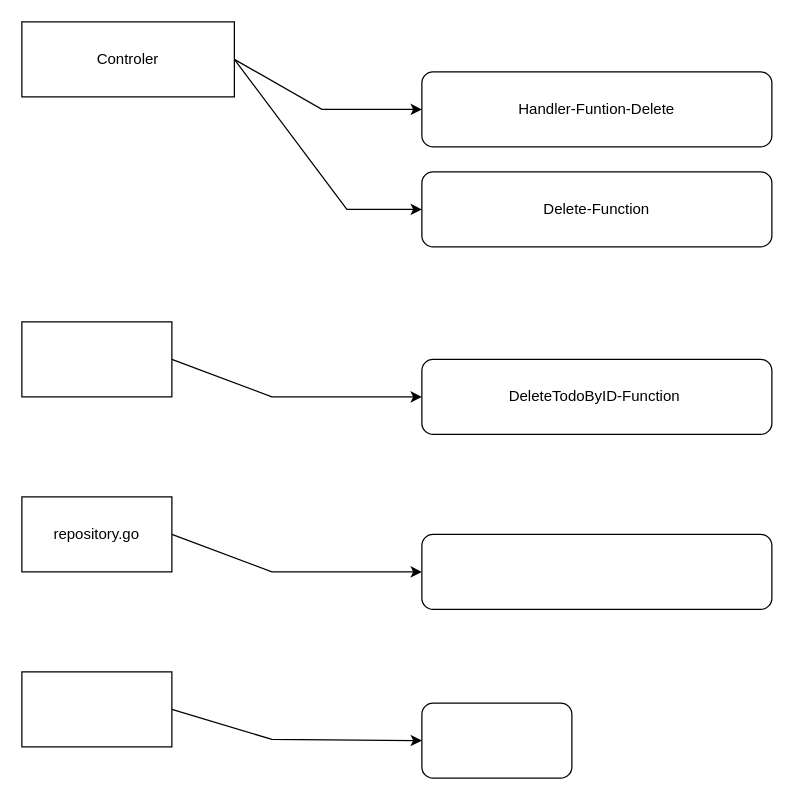
Image size: 794x800. Some labels were removed from this diagram. Here are the shapes that lost their labels. From the top down, the box of each, then its label:
(21, 321, 172, 397): Models.go
(421, 533, 772, 609): Interface mit DeleteTodoById
(21, 671, 172, 747): csvrepo.go
